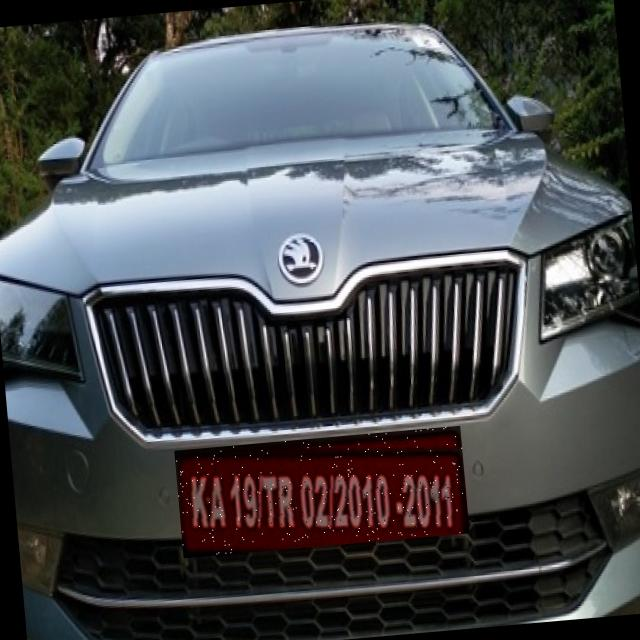Plate: (175, 426, 470, 559)
